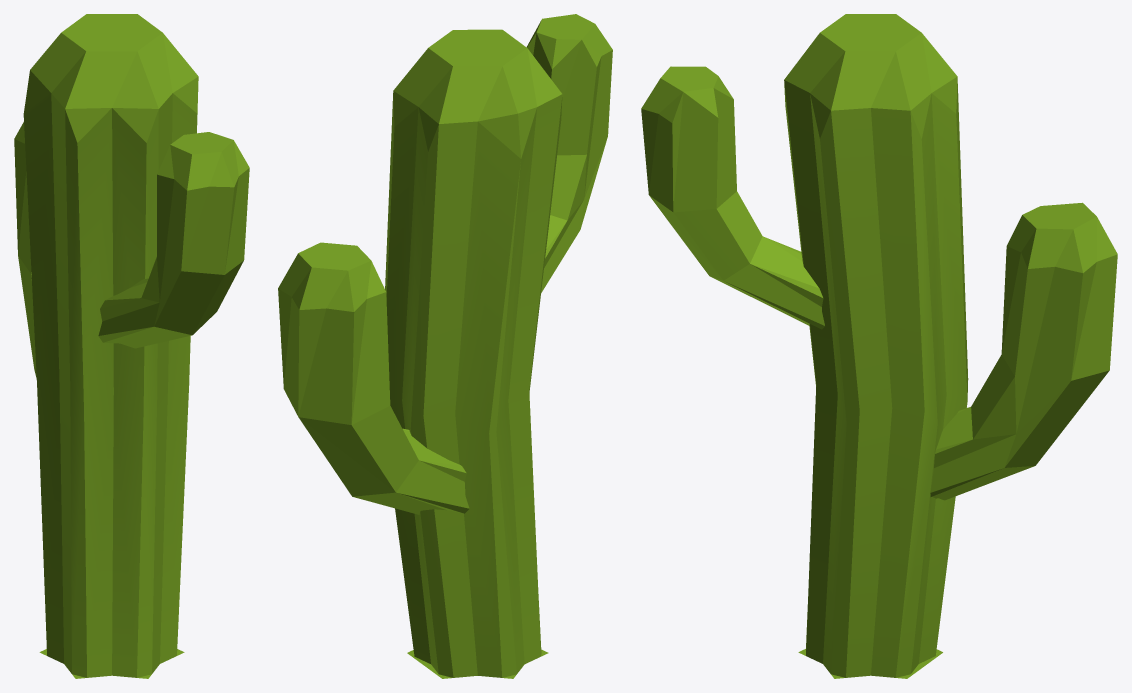
The model's file is CactiA.fbx.
3 views of the same model, side by side, from view 1: azimuth 30°, elevation 25°; view 2: azimuth 150°, elevation 25°; view 3: azimuth 270°, elevation 25° (orthographic). The views are drawn at different scales.
Parts seen in each view (by area): view 1: cacti1; view 2: cacti1; view 3: cacti1.
Boxes of the visible parts, <box> form: cacti1: <box>14,14,249,678</box>; cacti1: <box>278,14,612,678</box>; cacti1: <box>641,14,1117,678</box>.
Size of the model in its own units: 42.54 by 152 by 106.
